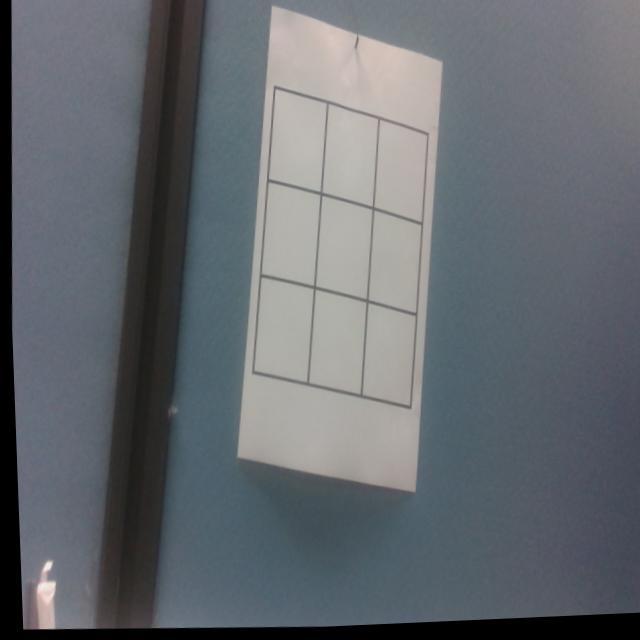null: (246, 274, 313, 391), (254, 181, 319, 294), (302, 289, 366, 402), (309, 195, 373, 306), (264, 88, 327, 196), (358, 303, 417, 415), (317, 104, 378, 210), (364, 210, 422, 318), (370, 121, 428, 228)
table: (238, 73, 440, 424)
